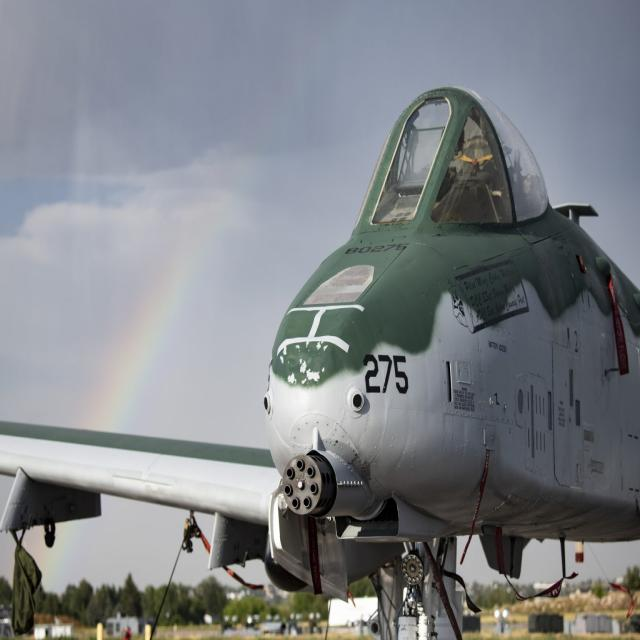MIL_Plane: (0, 83, 640, 640)
